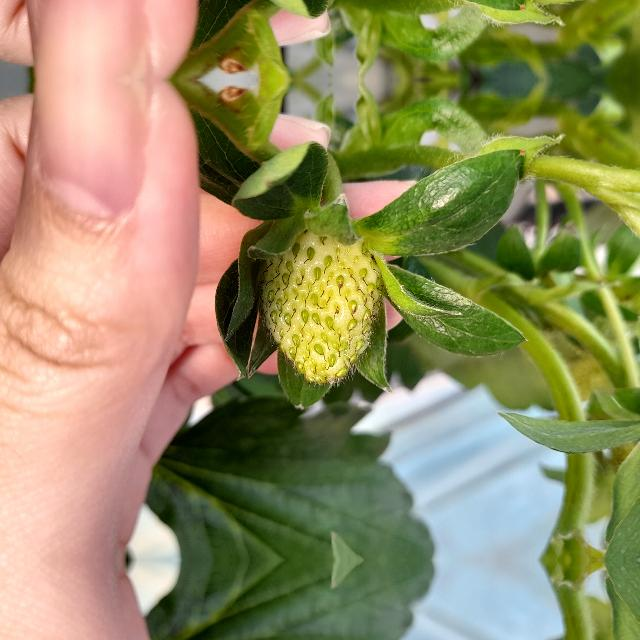Health_25: (260, 227, 388, 387)
